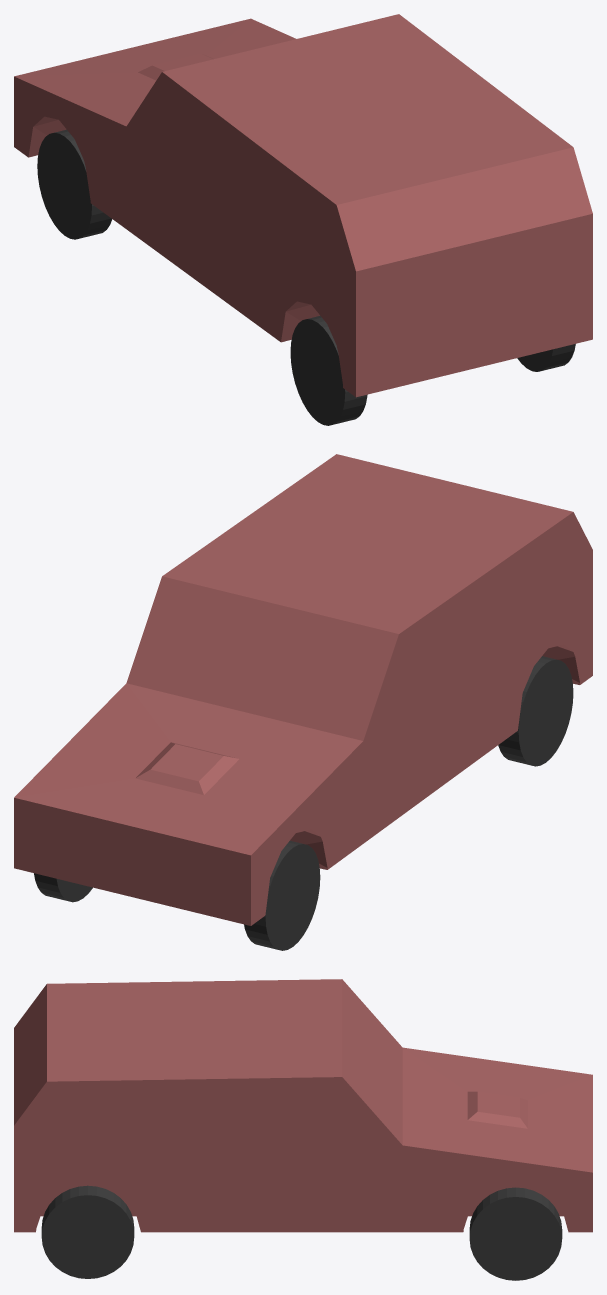
Rendered from basic_car.fbx.
3 renders of one model, top to bottom at view 1: azimuth 30°, elevation 25°; view 2: azimuth 150°, elevation 25°; view 3: azimuth 270°, elevation 25°, orthographic. The views are drawn at different scales.
Visible parts, largest first — view 1: Car, WheelBackL, WheelFrontL, WheelBackR; view 2: Car, WheelBackL, WheelFrontL, WheelFrontR; view 3: Car, WheelFrontR, WheelBackR.
Boxes of the visible parts, x1=… form: Car: x1=14, y1=14, x2=592, y2=397; WheelBackL: x1=290, y1=315, x2=367, y2=425; WheelFrontL: x1=37, y1=129, x2=112, y2=239; WheelBackR: x1=517, y1=344, x2=575, y2=371; Car: x1=14, y1=454, x2=592, y2=925; WheelBackL: x1=498, y1=656, x2=573, y2=766; WheelFrontL: x1=244, y1=840, x2=320, y2=950; WheelFrontR: x1=34, y1=873, x2=92, y2=902; Car: x1=14, y1=979, x2=592, y2=1232; WheelFrontR: x1=469, y1=1187, x2=562, y2=1280; WheelBackR: x1=41, y1=1185, x2=134, y2=1278.
Bounding box in the file's own units: 2 × 5 × 1.95.
